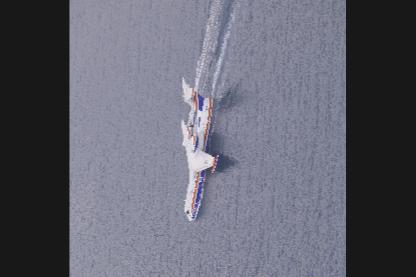B52: (181, 75, 220, 220)
